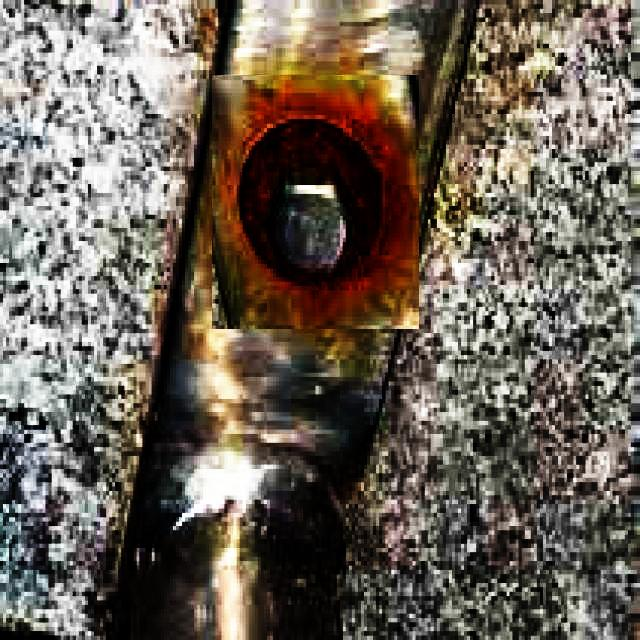Corrosion: (246, 118, 351, 202), (331, 116, 390, 237), (240, 130, 282, 267), (318, 202, 385, 279), (280, 254, 328, 286)
